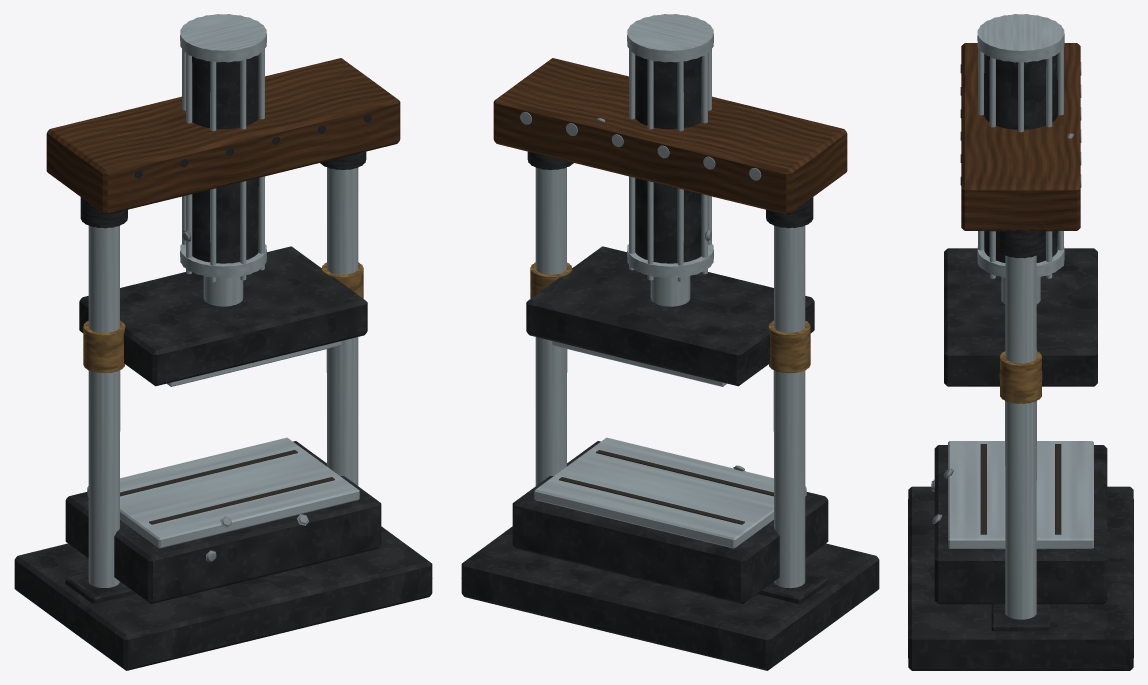
The picture shows the model from 3 angles, left to right: view 1: azimuth 30°, elevation 25°; view 2: azimuth 150°, elevation 25°; view 3: azimuth 270°, elevation 25°; orthographic projection.
Parts seen in each view (by area): view 1: blackened-forged-iron (×2), machined-bearing-steel (×2), quarter-sawn-timber, aged-bronze, mortar-joint-recess; view 2: blackened-forged-iron (×2), machined-bearing-steel (×2), quarter-sawn-timber, aged-bronze, mortar-joint-recess; view 3: blackened-forged-iron (×2), machined-bearing-steel, quarter-sawn-timber, aged-bronze, mortar-joint-recess.
Boxes of the visible parts, x1=… form: blackened-forged-iron (×2): x1=14, y1=55, x2=432, y2=670; machined-bearing-steel (×2): x1=87, y1=14, x2=359, y2=587; quarter-sawn-timber: x1=46, y1=58, x2=400, y2=214; aged-bronze: x1=83, y1=262, x2=363, y2=373; mortar-joint-recess: x1=120, y1=450, x2=334, y2=524; blackened-forged-iron (×2): x1=461, y1=55, x2=879, y2=670; machined-bearing-steel (×2): x1=520, y1=14, x2=806, y2=588; quarter-sawn-timber: x1=493, y1=58, x2=847, y2=214; aged-bronze: x1=530, y1=262, x2=810, y2=373; mortar-joint-recess: x1=559, y1=450, x2=773, y2=524; blackened-forged-iron (×2): x1=908, y1=54, x2=1133, y2=670; machined-bearing-steel: x1=948, y1=14, x2=1093, y2=619; quarter-sawn-timber: x1=961, y1=43, x2=1080, y2=231; aged-bronze: x1=999, y1=351, x2=1042, y2=403; mortar-joint-recess: x1=980, y1=444, x2=1061, y2=534.
Size of the model in its own units: 1.35 by 2.35 by 0.85.
7 materials, 5 textured.
